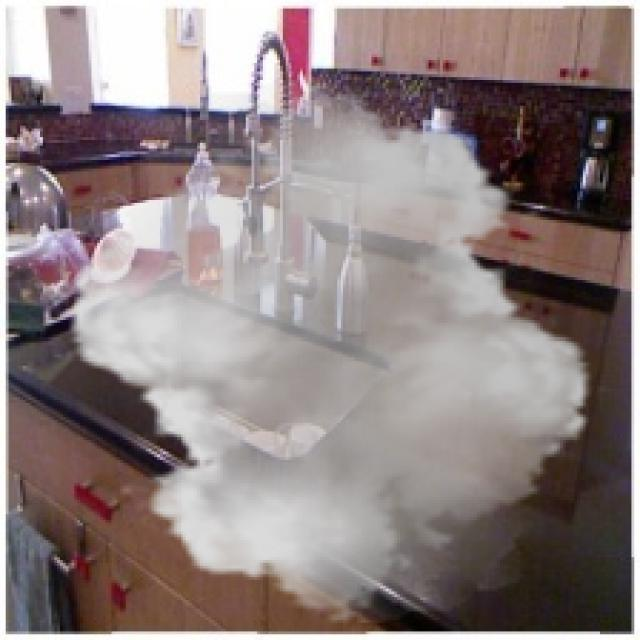Smoke: (49, 80, 612, 623)
